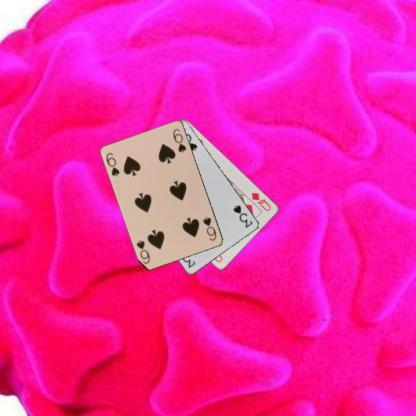3s: (230, 202, 254, 229)
6s: (200, 214, 218, 242), (103, 150, 121, 178)
Qd: (249, 190, 273, 213)
